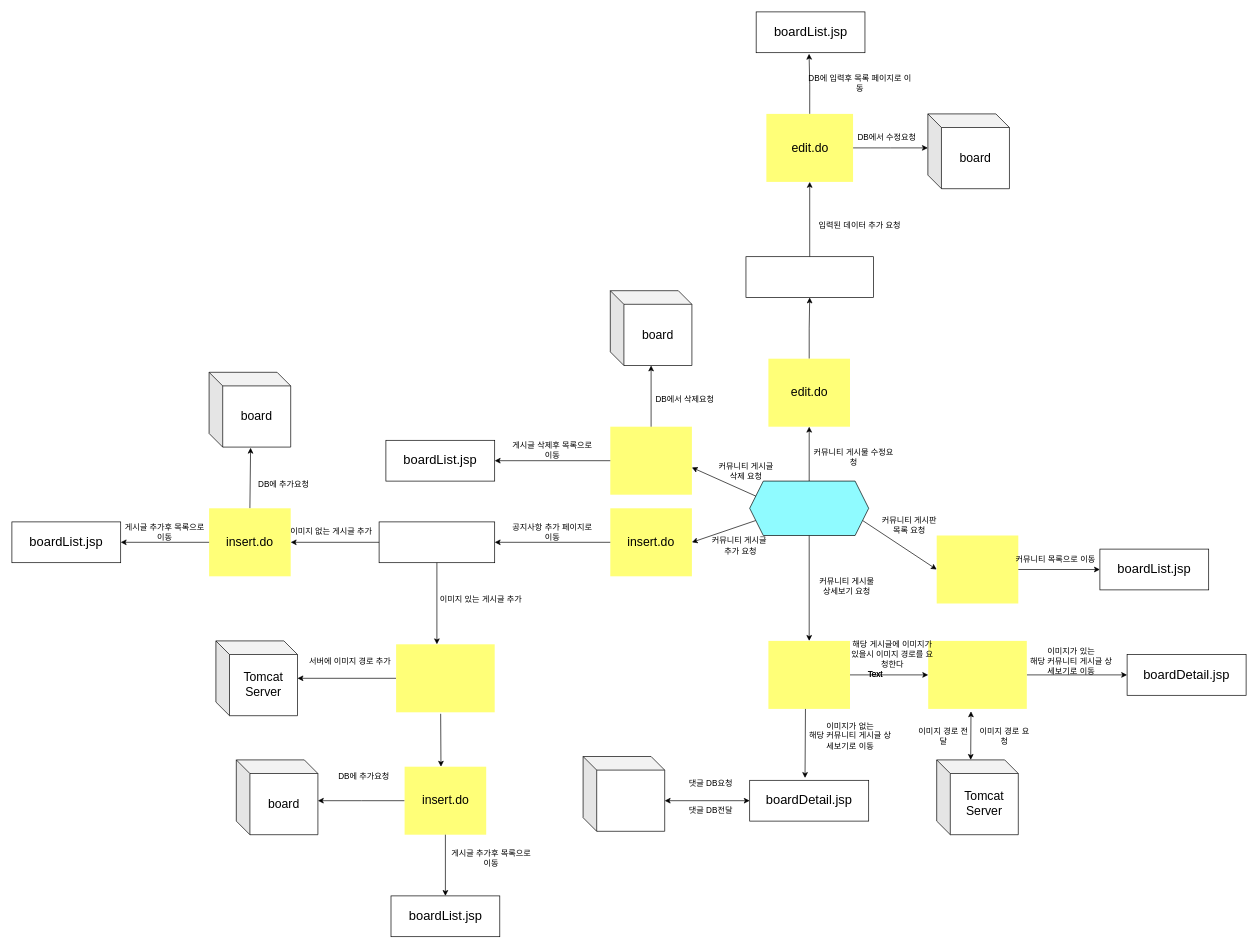
Image size: 1258x949. Some labels were removed from this diagram. The box of each missing label's shape, as (x1, y1, x2, y2) in pixels:
Board Controller .java: (749, 480, 869, 536)
boardEdit.do: (745, 256, 873, 298)
boardInsert.jsp: (378, 521, 495, 563)
ckImgSubmit.do: (928, 641, 1026, 709)
comment: (582, 756, 665, 831)
delete.do: (610, 426, 692, 494)
detail.do: (768, 641, 850, 709)
imageUpload.do: (396, 644, 494, 712)
list.do: (936, 535, 1018, 603)
